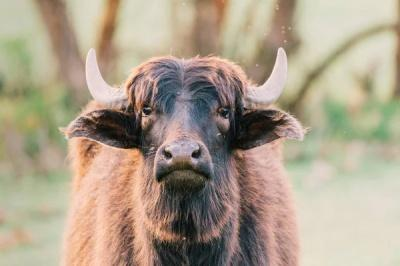buffalo: (61, 48, 304, 265)
